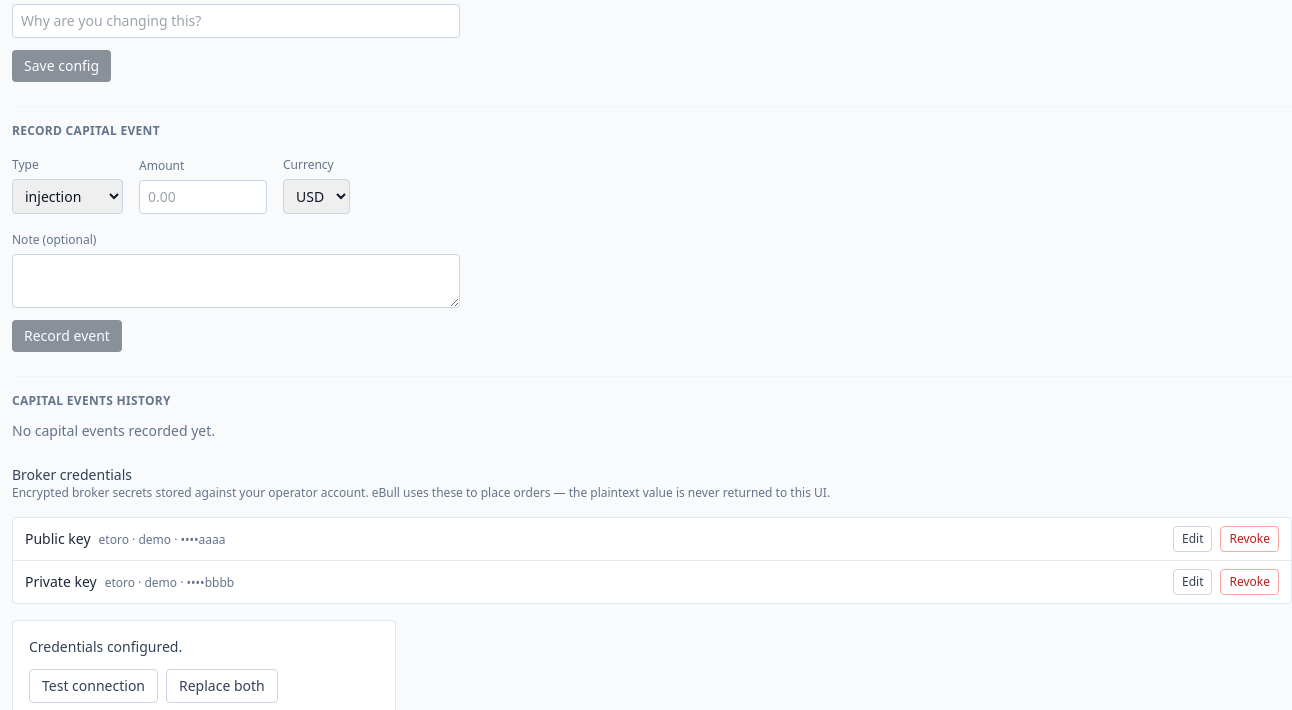
Test: SettingsPage — edit single key › surfaces an error when PUT /replace fails (#980)
The image size is (1292, 710).
(page scrolled)
Expected: the text "Public key" is shown, [25,529,91,548]
Click the button "Edit" in the row of "Public key" at (1193,539), box [1173,526,1212,552]
(page scrolled)
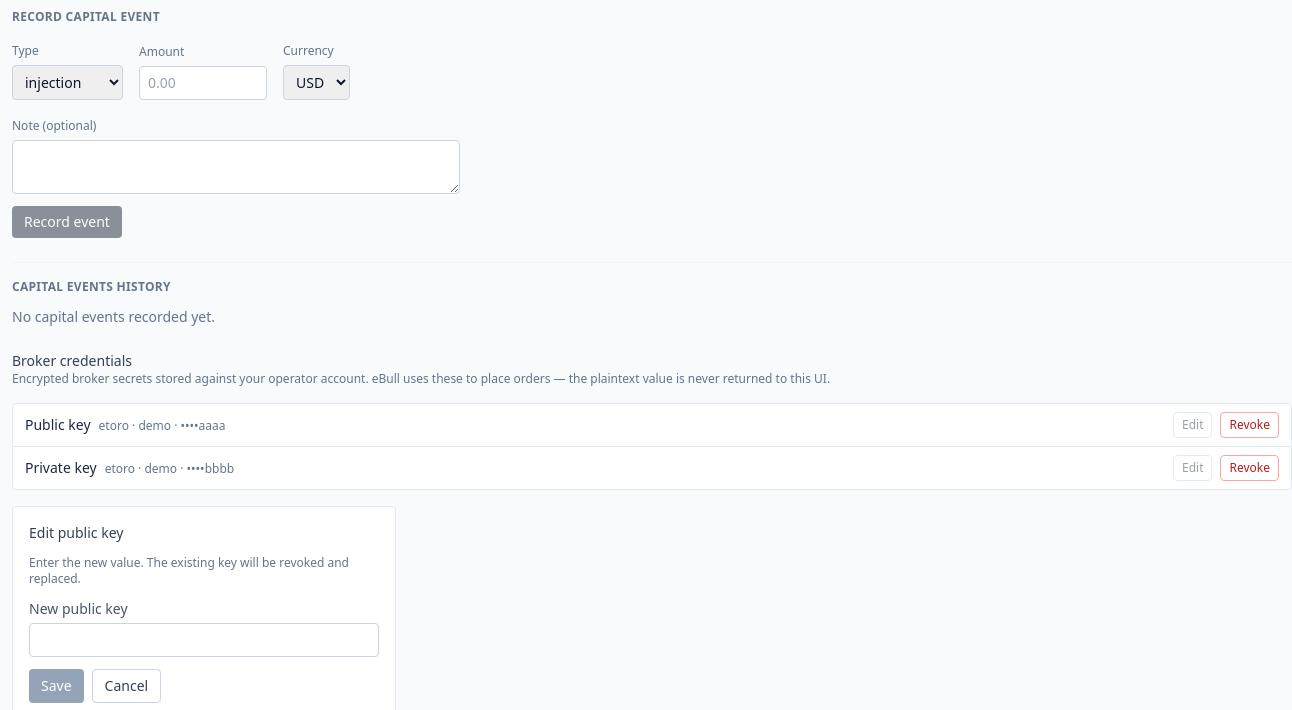
Type "new-val" into the password field labelled "New public key" at (204,640), box [29,623,379,657]
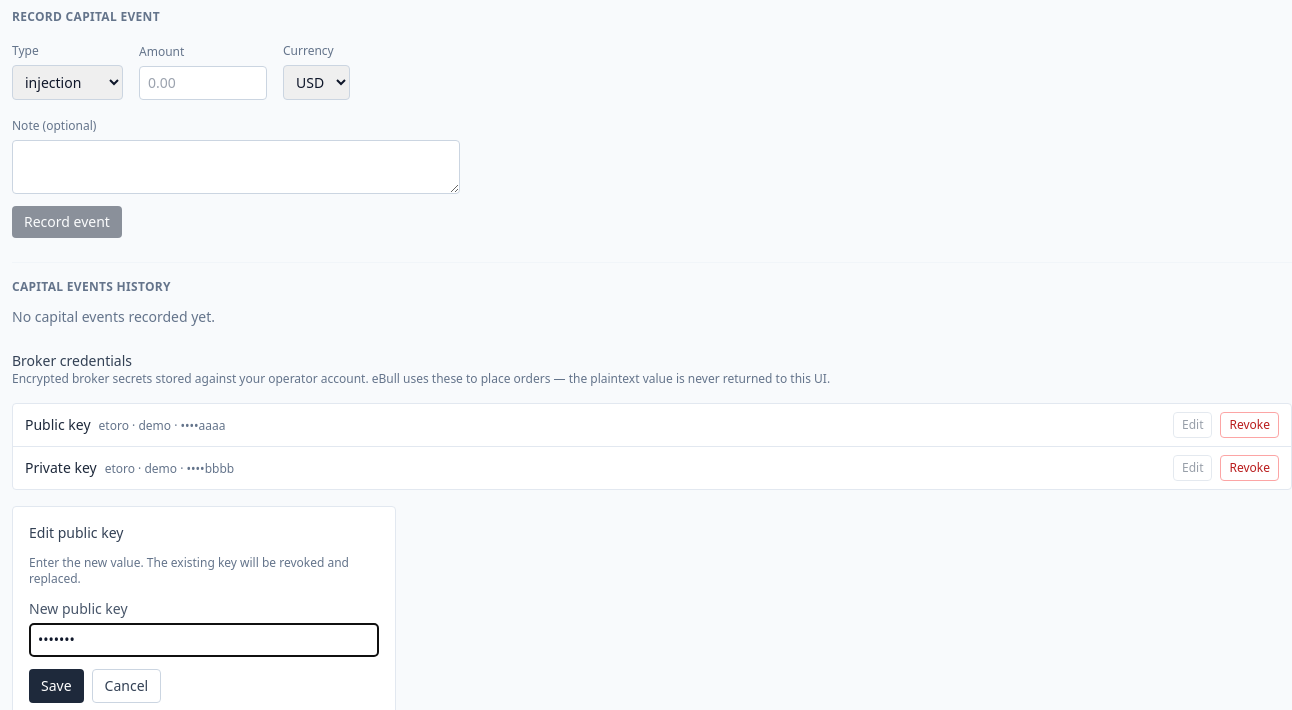
Click the button "Save" at (56,686), box [29,669,84,703]
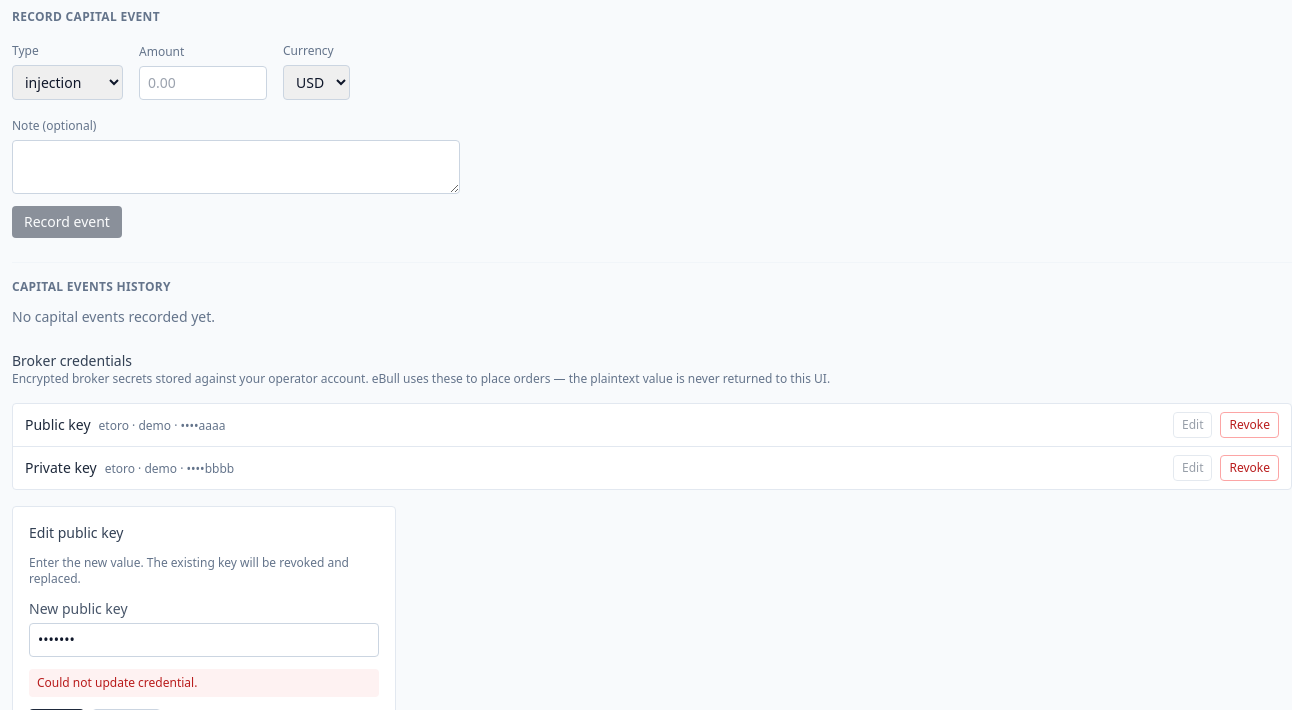
Expected: the message shows "Could not update credential", [37,674,197,691]
